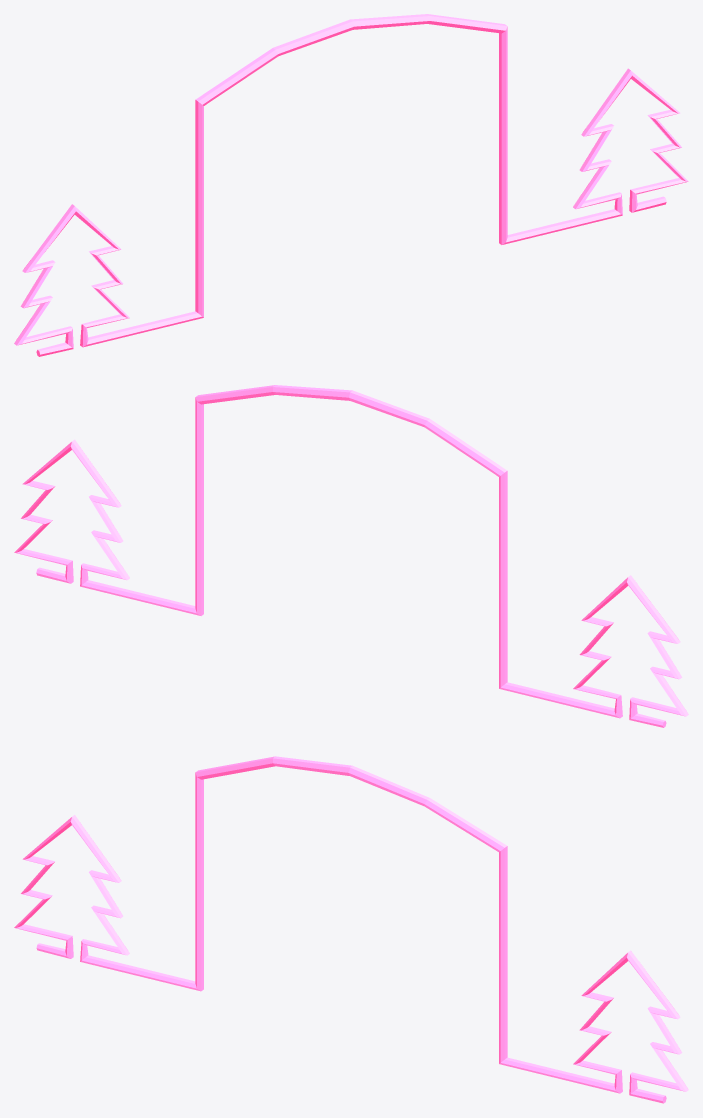
Rendered from PUERTA.fbx.
3 renders of one model, top to bottom at view 1: azimuth 30°, elevation 25°; view 2: azimuth 150°, elevation 25°; view 3: azimuth 330°, elevation 25°, orthographic.
Parts seen in each view (by area): view 1: Puerta 1; view 2: Puerta 1; view 3: Puerta 1.
Boxes of the visible parts, bbox=[...] form: Puerta 1: bbox=[14, 14, 688, 356]; Puerta 1: bbox=[14, 385, 688, 727]; Puerta 1: bbox=[14, 756, 688, 1103].
Size of the model in its own units: 10576 by 3909 by 147.
